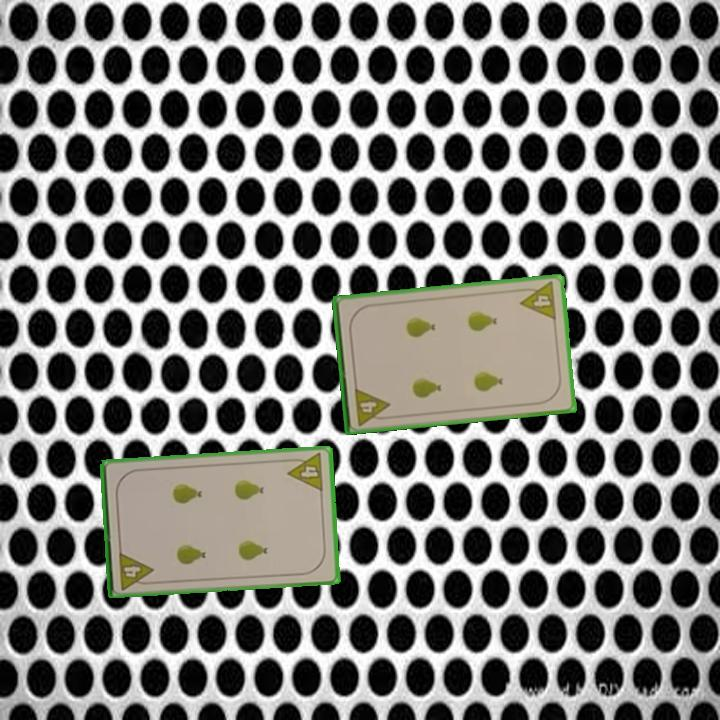4p: (516, 278, 559, 323), (284, 450, 326, 494), (351, 384, 393, 428), (115, 548, 156, 592)
